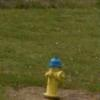Hydrant: (34, 44, 69, 100)
